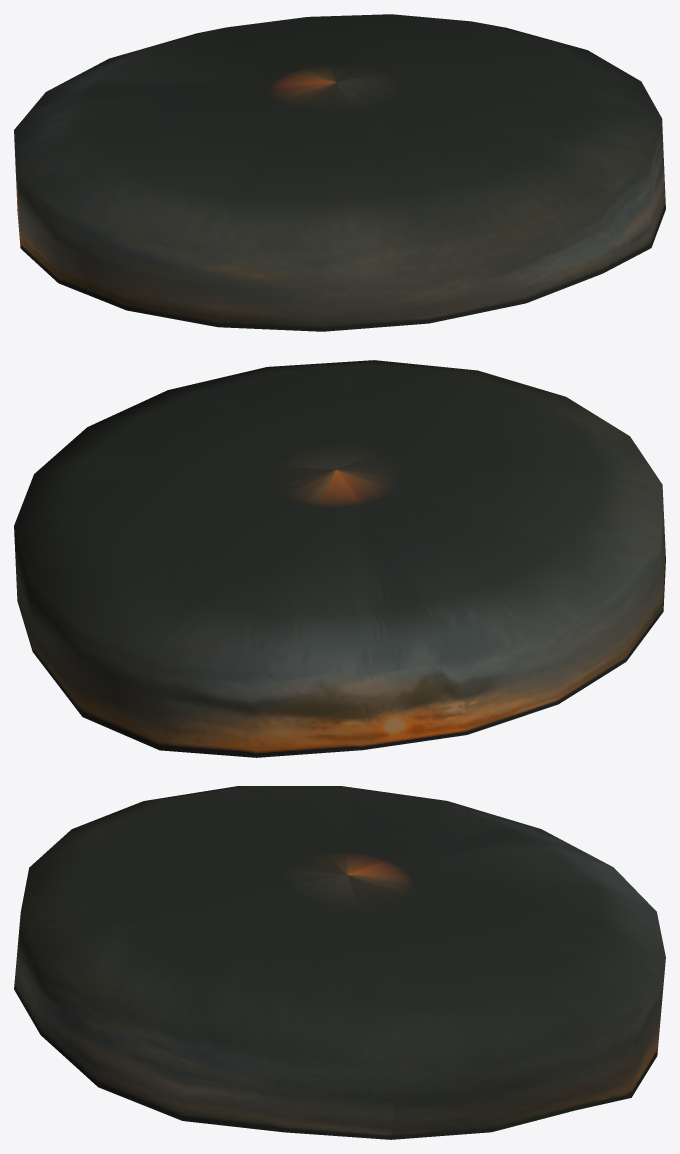
File: MKDAAcidBath.glb
3 views of the same model, one above another, from view 1: azimuth 30°, elevation 25°; view 2: azimuth 150°, elevation 25°; view 3: azimuth 270°, elevation 25° (orthographic).
Parts seen in each view (by area): view 1: 40_mesh9_0.2_0_0; view 2: 40_mesh9_0.2_0_0; view 3: 40_mesh9_0.2_0_0.
Boxes of the visible parts, <box> form: 40_mesh9_0.2_0_0: <box>14,14,665,331</box>; 40_mesh9_0.2_0_0: <box>14,360,665,757</box>; 40_mesh9_0.2_0_0: <box>14,786,665,1139</box>.
Bounding box in the file's own units: 508 × 148 × 513.
29 materials, 29 textured.
